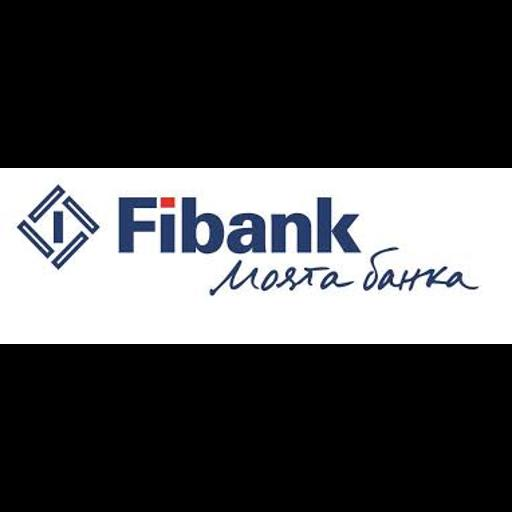First Investment Bank: (0, 168, 512, 344)
